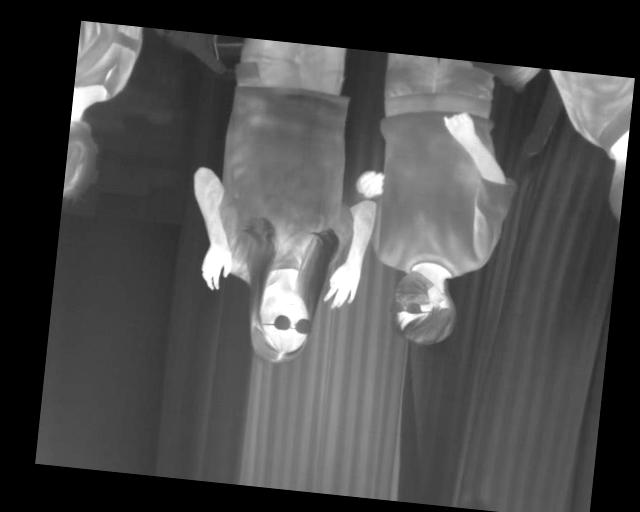face: (247, 282, 315, 366), (387, 268, 459, 347)
